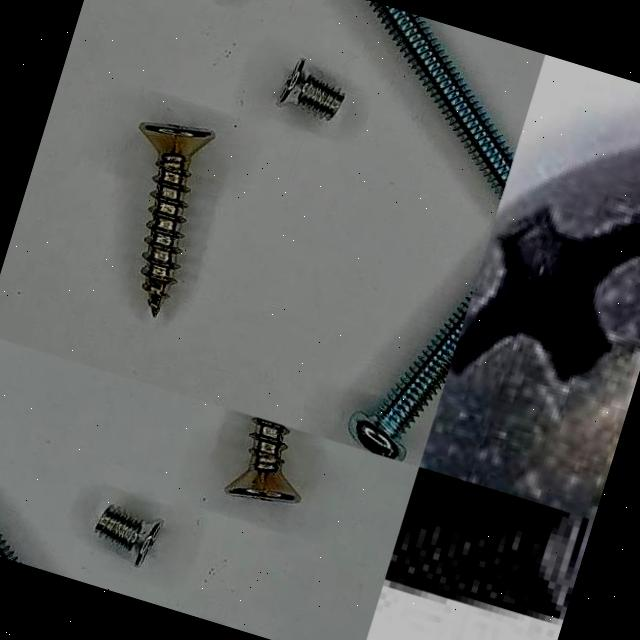Screw: (419, 139, 640, 520), (384, 467, 593, 626), (368, 0, 514, 197), (348, 293, 472, 461), (139, 124, 214, 317), (225, 417, 302, 503), (276, 59, 345, 120), (95, 506, 162, 567)
